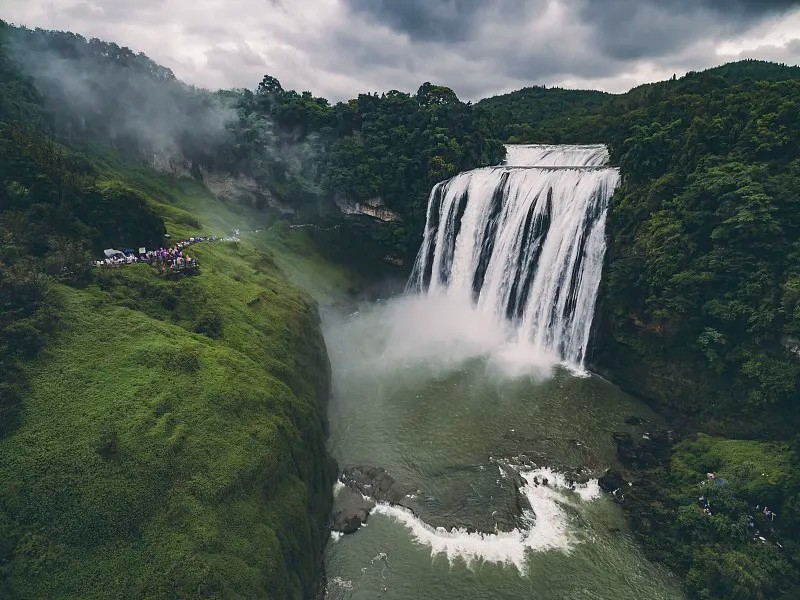Huangguoshu: (404, 144, 623, 368)
